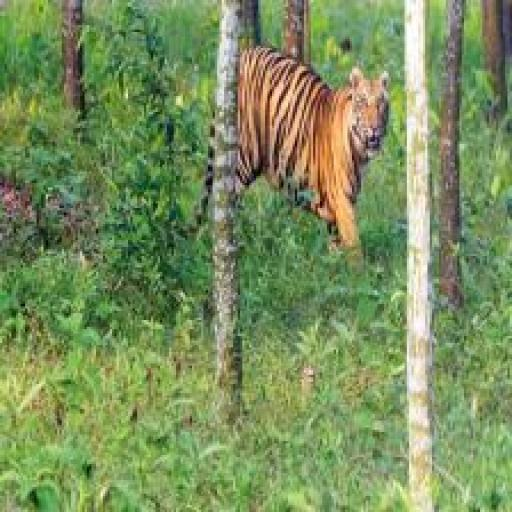Tiger: (176, 41, 395, 266)
